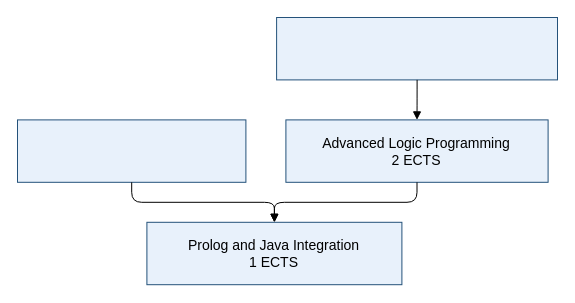
Some shapes in this 575 by 303 pixel diagram are drawn without their labels. Each missing label, with the box of its shape:
Functional Programming 3 ECTS: (16, 119, 246, 182)
Logic Programming Foundations 2 ECTS: (276, 16, 558, 80)
